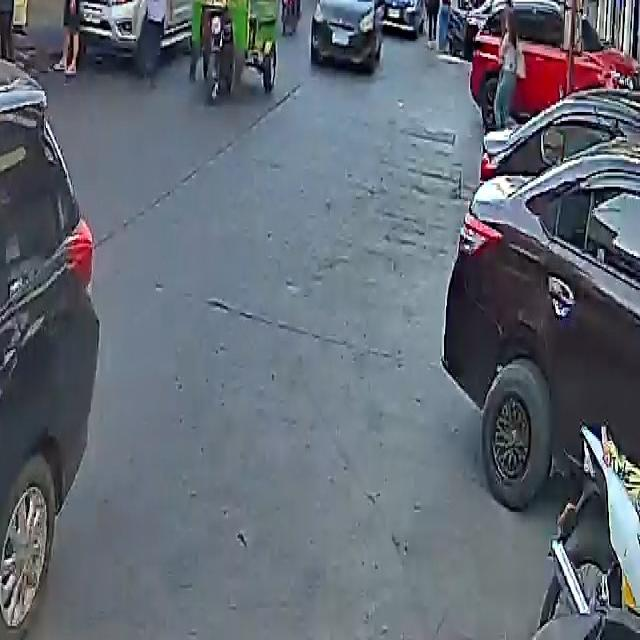car: (444, 67, 640, 537), (0, 29, 118, 638), (467, 0, 640, 130), (72, 0, 197, 78), (311, 0, 384, 69), (373, 0, 429, 30)
